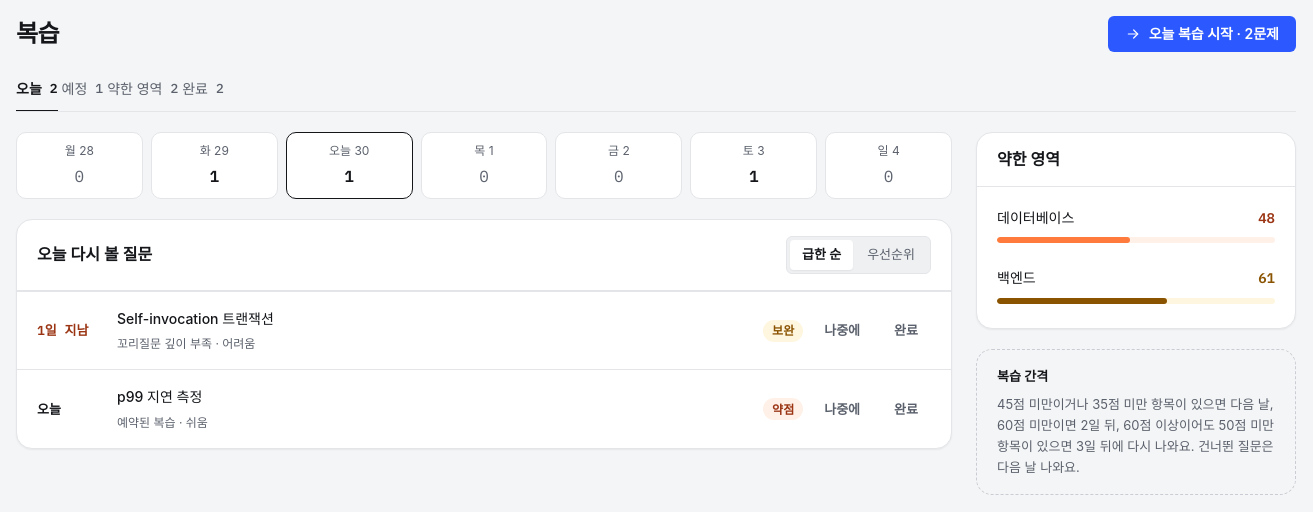
ReviewQueuePage › re-sorts by priority
The width and height of the screenshot is (1313, 512).
Click the radio button labelled "우선순위" at (891,255), box left=855, top=240, right=927, bottom=270
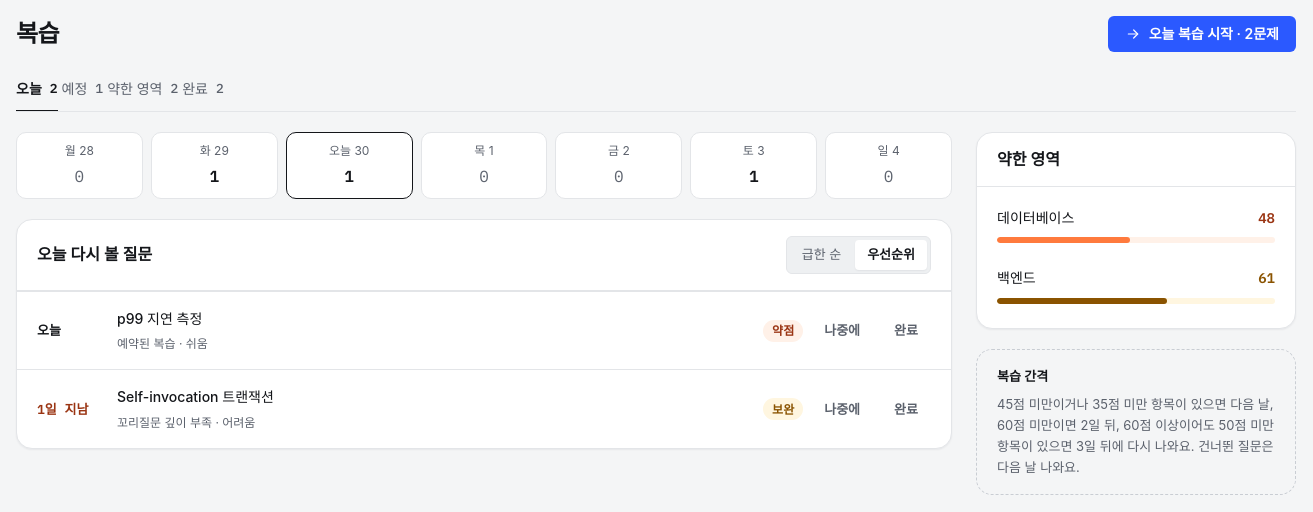
Expected: the links read "p99 지연 측정", "Self-invocation 트랜잭션", in this order, left=117, top=310, right=202, bottom=327; left=117, top=388, right=274, bottom=405
